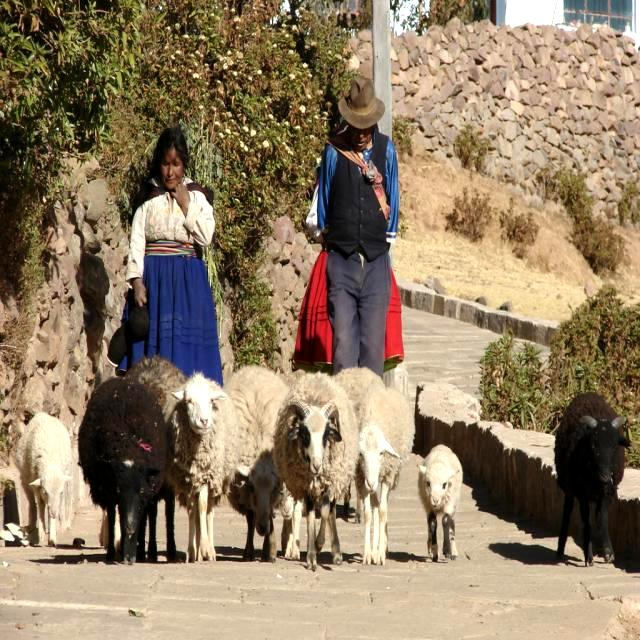sheep: (554, 391, 630, 562), (417, 447, 462, 555)
